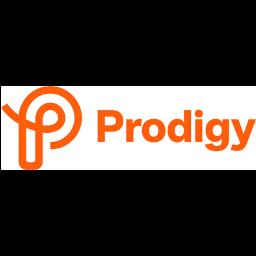d: (166, 108, 192, 144)
g: (204, 117, 230, 153)
o: (140, 119, 166, 147)
p: (0, 86, 84, 170), (94, 106, 124, 146)
r: (124, 116, 142, 144)
y: (230, 118, 256, 152)
